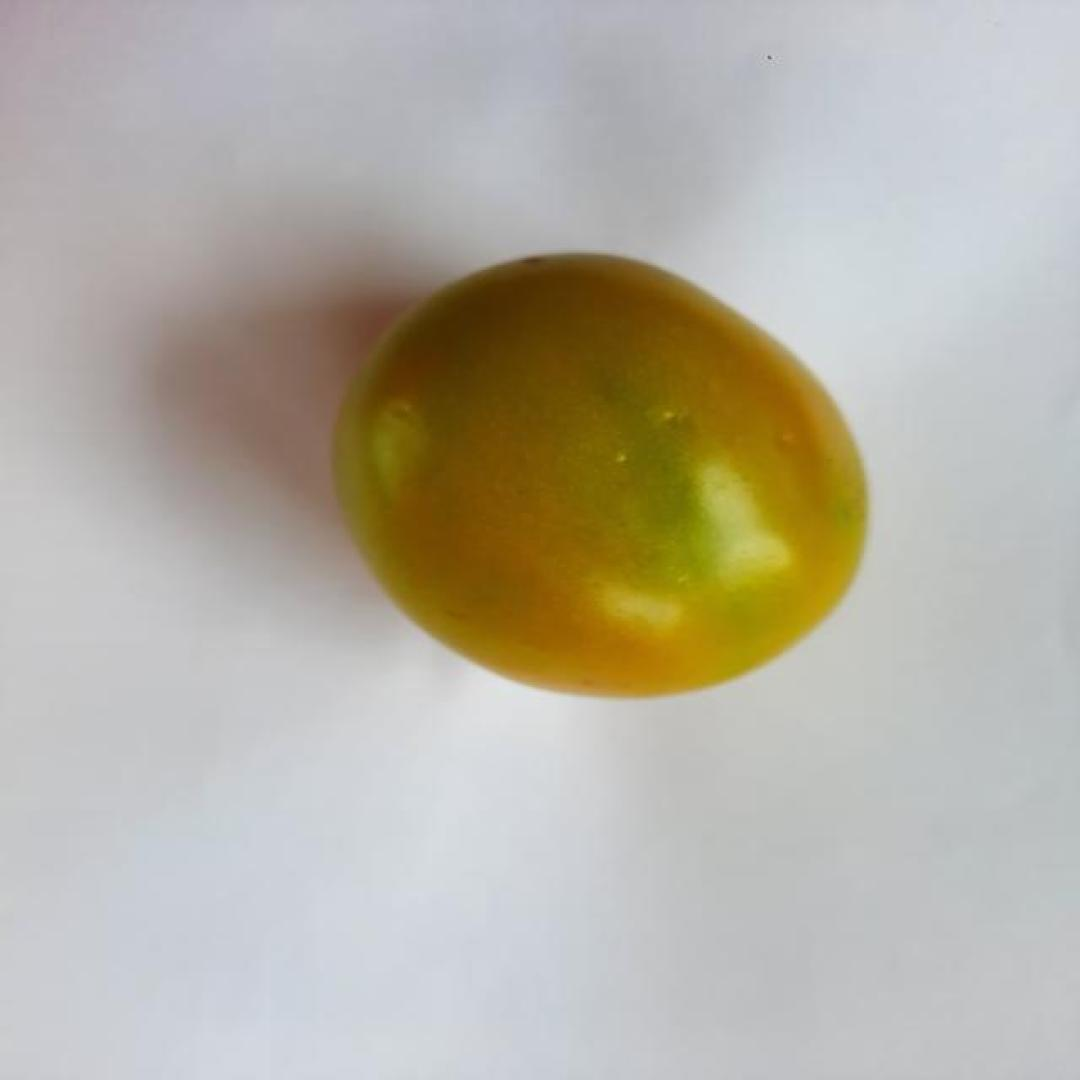setengah_matang: (327, 250, 878, 705)
